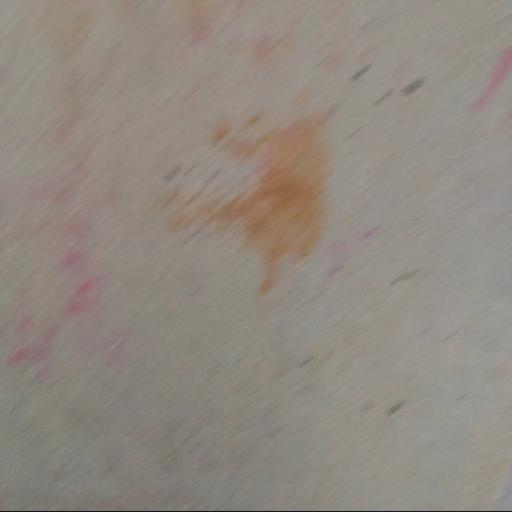stain: (0, 0, 456, 401)
